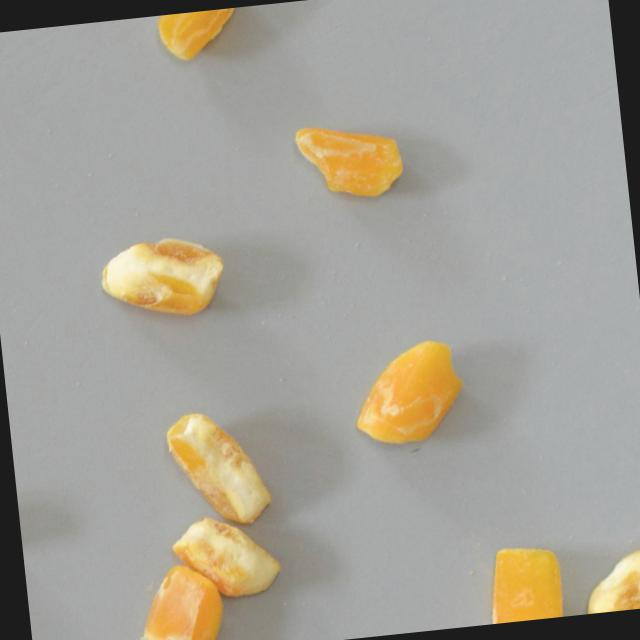pelicula: (166, 404, 276, 531), (348, 335, 471, 446), (96, 230, 230, 324), (172, 508, 289, 605), (293, 115, 407, 203), (131, 560, 226, 640), (482, 539, 568, 624), (155, 6, 248, 62), (579, 539, 640, 614)
